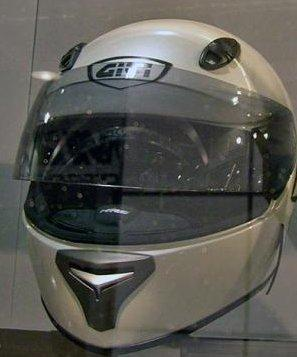helmet: (34, 25, 284, 320)
